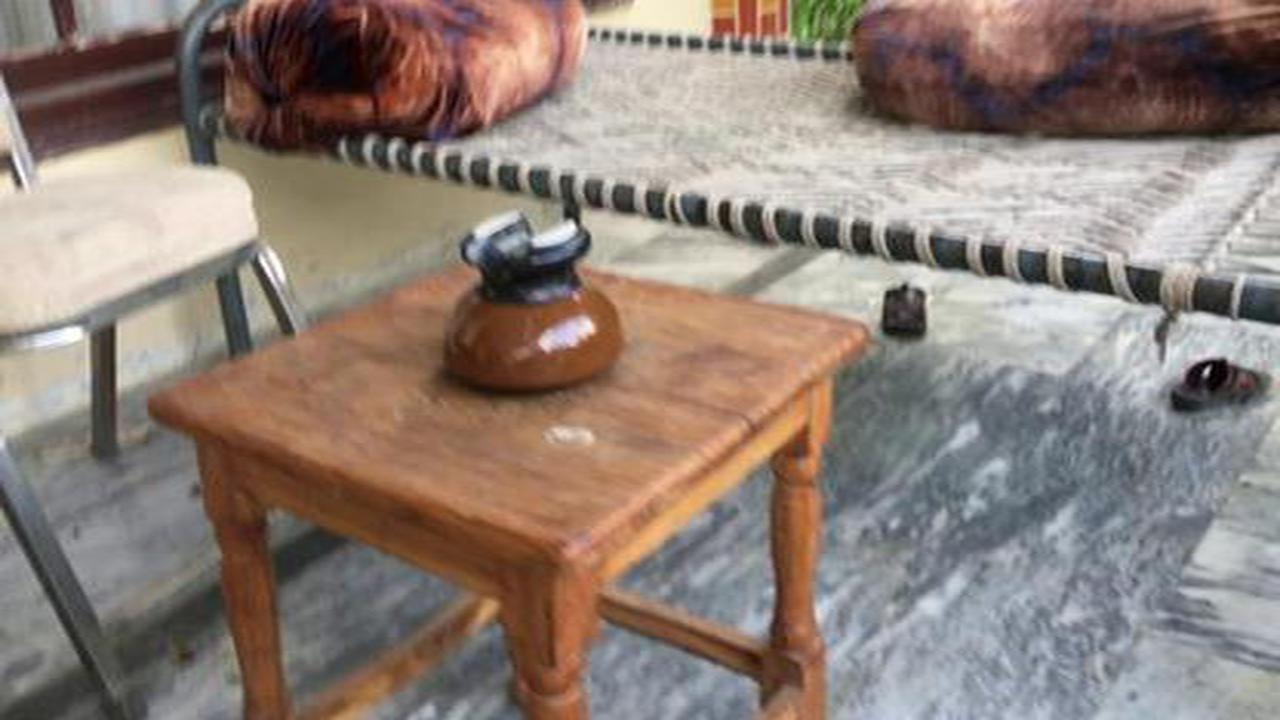insulator_pin: (410, 203, 634, 407)
